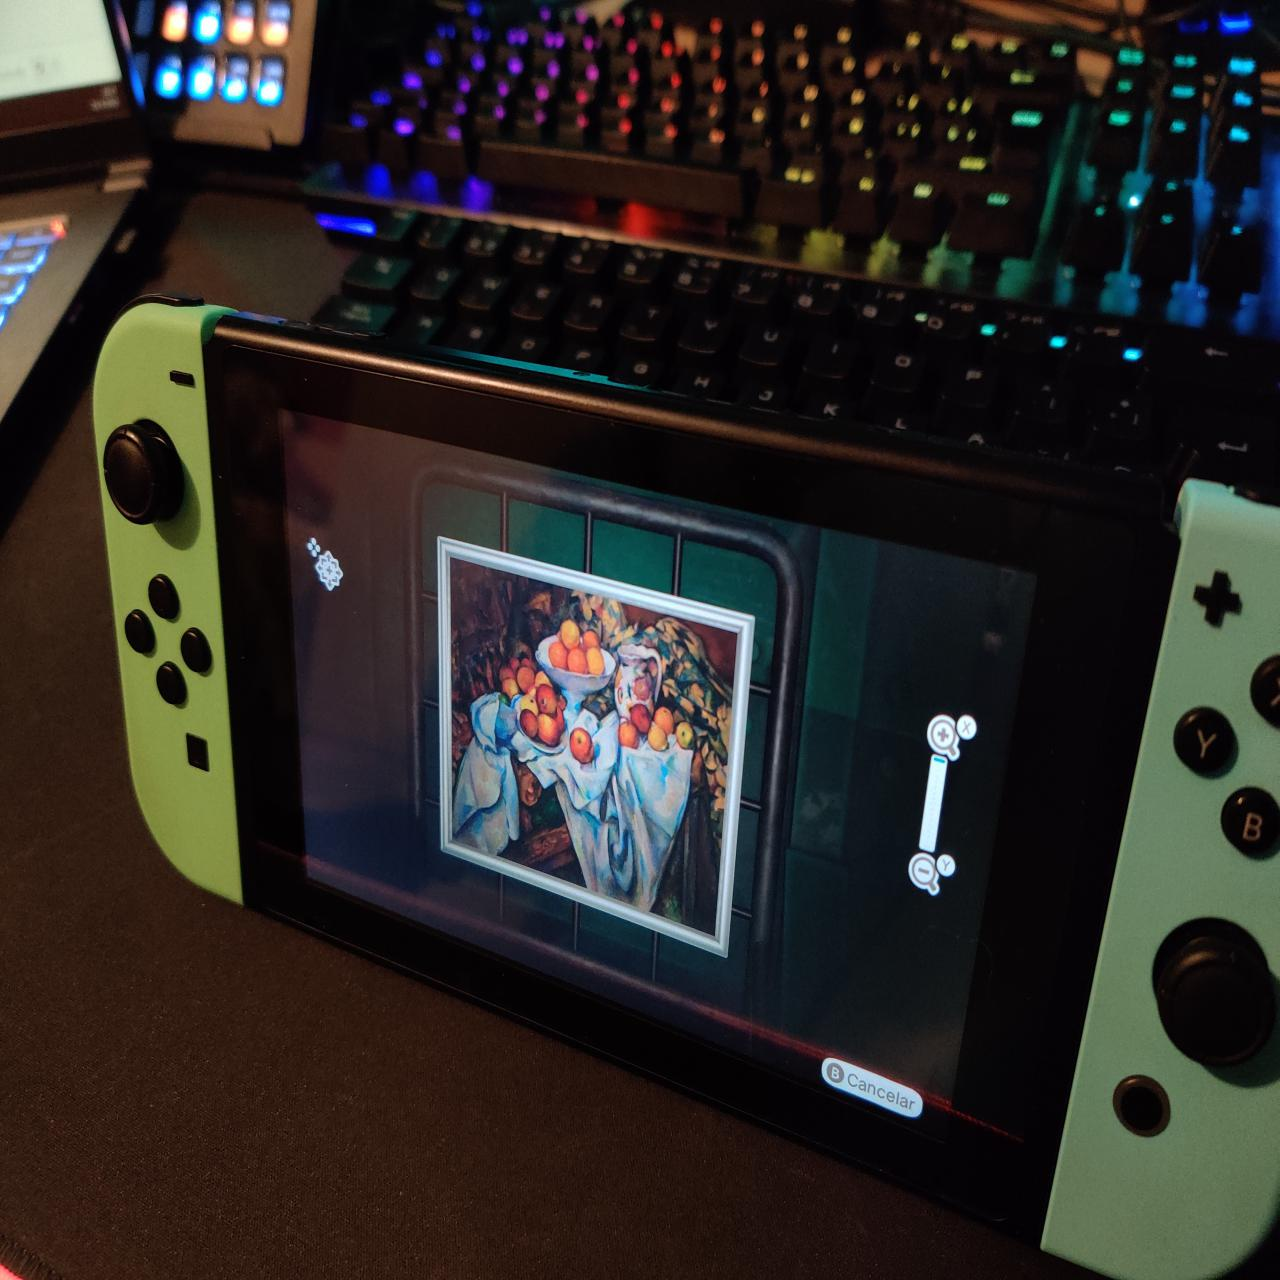AppleOrange: (452, 559, 735, 941)
